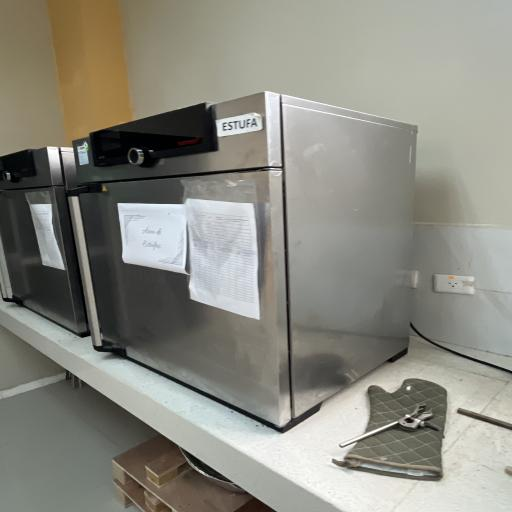Estufa_Memmert: (67, 84, 449, 435)
